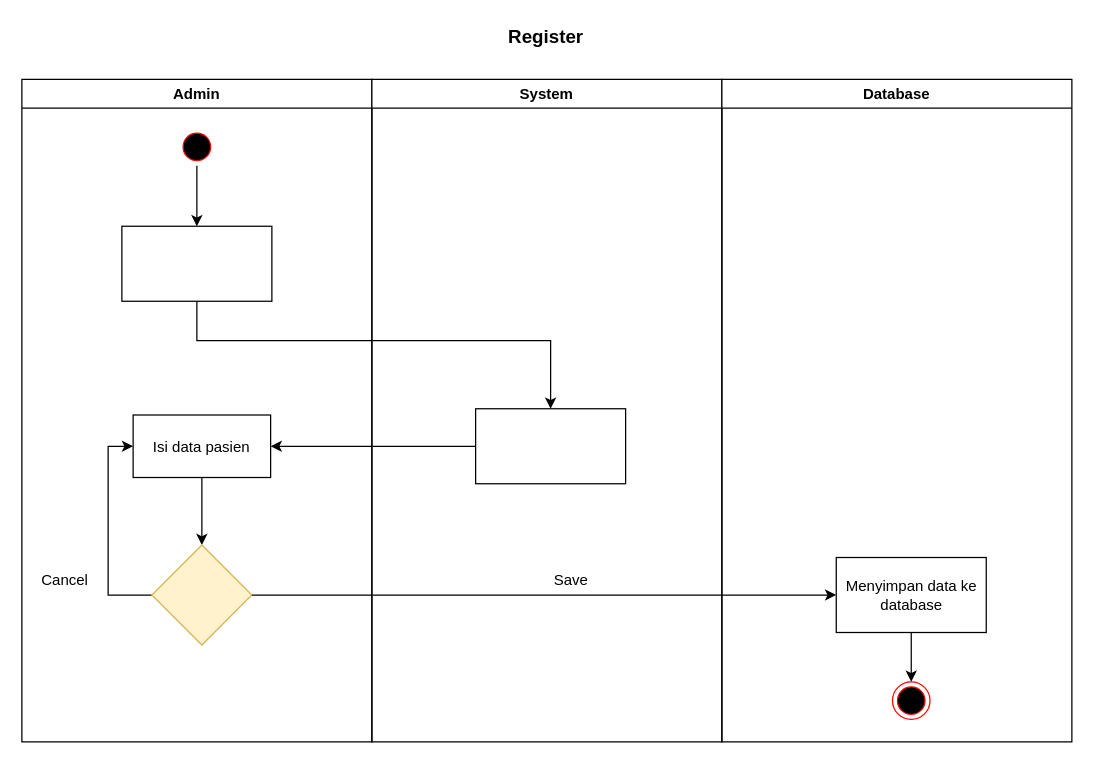
The diagram is 1094 pixels wide and 764 high, and some of its shapes have lost their labels. The centre of each missing label's shape, as x and y in pixels:
"Memilih tombol register" goes at [196,263].
"Menampilkan form register pasien baru" goes at [550,446].
"Simpan?" goes at [201,594].
